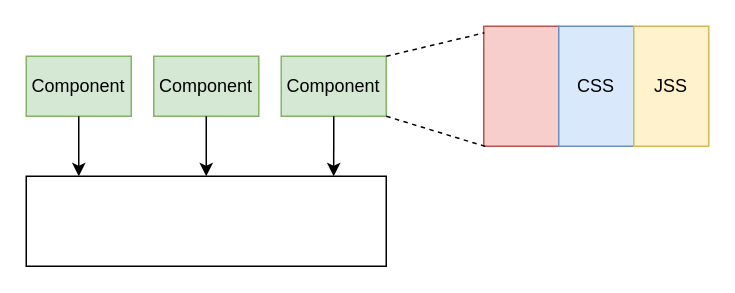
The diagram is 735 pixels wide and 293 high, and some of its shapes have lost their labels. The shapes that lost their labels are listed below. From the top down, each one's centre as x and y in pixels, then its label:
At (520,85): "HTML".
At (205,220): "Browser".
